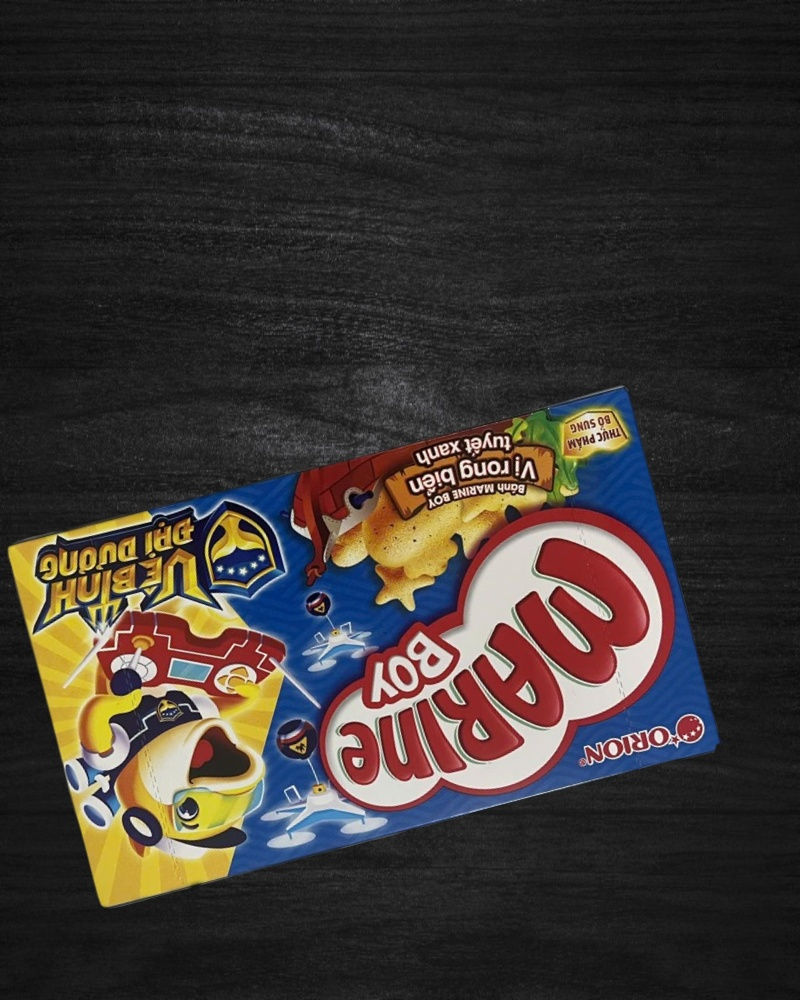Marine: (3, 379, 725, 915)
